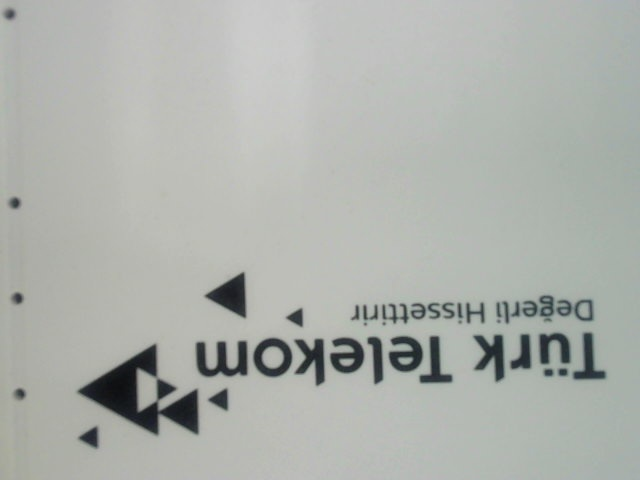AQ_TURKTelekom: (44, 272, 616, 458)
